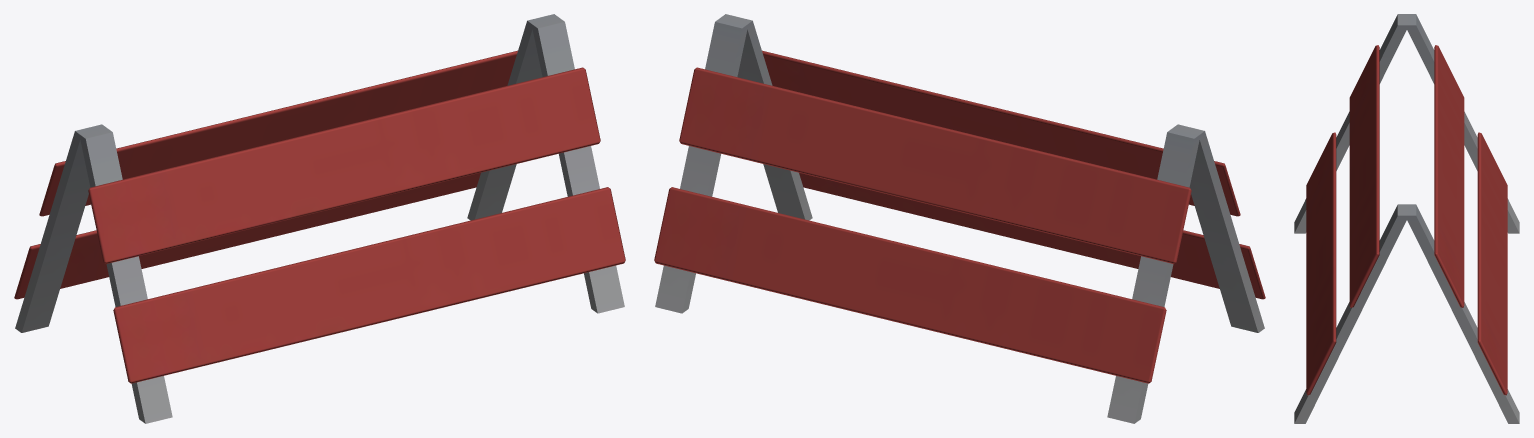
The model's file is barriere_plastique.glb.
3 views of the same model, side by side, from view 1: azimuth 30°, elevation 25°; view 2: azimuth 150°, elevation 25°; view 3: azimuth 270°, elevation 25° (orthographic). The views are drawn at different scales.
Parts seen in each view (by area): view 1: Plastic_Barrier; view 2: Plastic_Barrier; view 3: Plastic_Barrier.
Part boxes in pixels (<box>): Plastic_Barrier: <box>14,14,625,423</box>; Plastic_Barrier: <box>654,14,1265,423</box>; Plastic_Barrier: <box>1294,14,1519,423</box>.
Size of the model in its own units: 1.32 by 0.612 by 0.6.
Materials: 1 (1 with a texture image).
